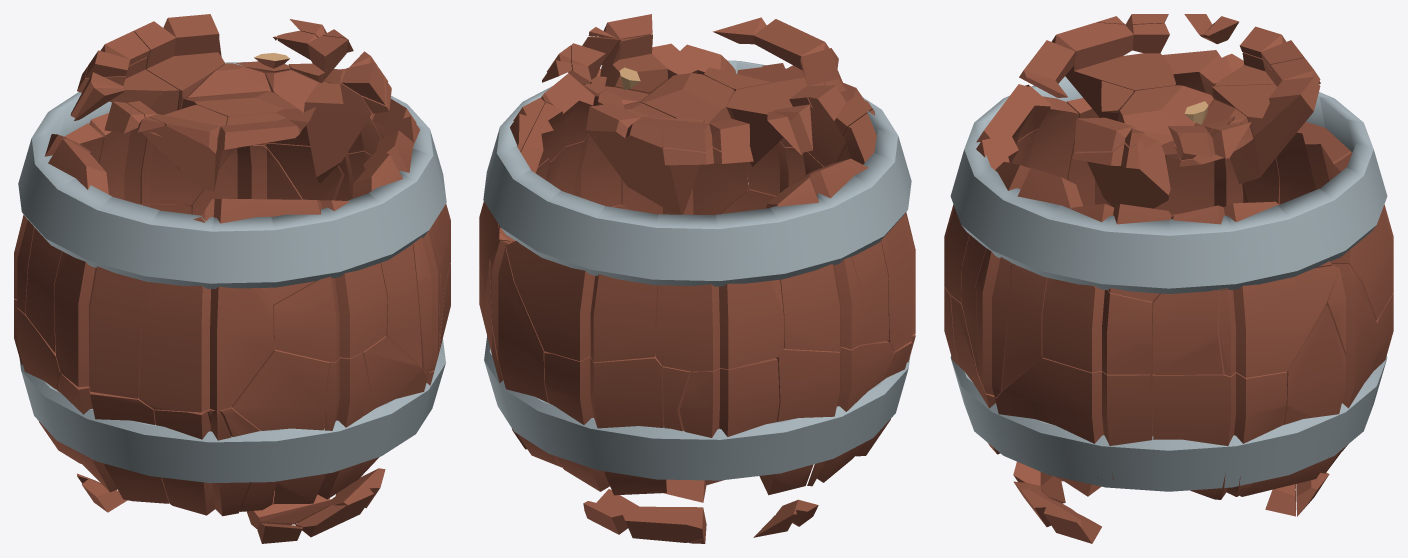
File: barrelFractured.fbx
3 renders of one model, left to right at view 1: azimuth 30°, elevation 25°; view 2: azimuth 150°, elevation 25°; view 3: azimuth 270°, elevation 25°, orthographic.
Parts seen in each view (by area): view 1: barrel.001, barrel.002, barrel_cell.038, barrel_cell.021, barrel_cell.037, barrel_cell.078, barrel_cell.005, barrel_cell.050, barrel_cell.034, barrel_cell.003, barrel_cell.064, barrel_cell.095 (+36 smaller); view 2: barrel.001, barrel.002, barrel_cell.088, barrel_cell, barrel_cell.005, barrel_cell.091, barrel_cell.024, barrel_cell.046, barrel_cell.019, barrel_cell.095, barrel_cell.089, barrel_cell.050 (+36 smaller); view 3: barrel.001, barrel.002, barrel_cell.049, barrel_cell.051, barrel_cell.082, barrel_cell.093, barrel_cell.050, barrel_cell.005, barrel_cell.054, barrel_cell.053, barrel_cell.095, barrel_cell.056 (+36 smaller).
Boxes of the visible parts, <box> form: barrel.001: <box>18,62,446,288</box>; barrel.002: <box>19,338,445,483</box>; barrel_cell.038: <box>139,217,274,412</box>; barrel_cell.021: <box>54,251,144,398</box>; barrel_cell.037: <box>274,263,387,362</box>; barrel_cell.078: <box>232,335,330,430</box>; barrel_cell.005: <box>133,14,225,169</box>; barrel_cell.050: <box>127,101,227,191</box>; barrel_cell.034: <box>57,373,169,503</box>; barrel_cell.003: <box>304,68,371,182</box>; barrel_cell.064: <box>154,409,249,516</box>; barrel_cell.095: <box>183,145,302,215</box>; barrel.001: <box>483,60,911,286</box>; barrel.002: <box>484,336,910,480</box>; barrel_cell.088: <box>656,279,783,371</box>; barrel_cell: <box>544,351,663,428</box>; barrel_cell.005: <box>586,103,705,214</box>; barrel_cell.091: <box>776,341,893,421</box>; barrel_cell.024: <box>505,241,595,361</box>; barrel_cell.046: <box>780,257,861,351</box>; barrel_cell.019: <box>679,358,779,437</box>; barrel_cell.095: <box>490,240,548,402</box>; barrel_cell.089: <box>590,274,658,362</box>; barrel_cell.050: <box>726,48,838,166</box>; barrel.001: <box>950,76,1387,293</box>; barrel.002: <box>950,356,1387,491</box>; barrel_cell.049: <box>995,357,1152,479</box>; barrel_cell.051: <box>1152,371,1287,499</box>; barrel_cell.082: <box>1042,278,1153,374</box>; barrel_cell.093: <box>1218,265,1339,377</box>; barrel_cell.050: <box>1051,22,1175,120</box>; barrel_cell.005: <box>1212,58,1320,184</box>; barrel_cell.054: <box>1152,290,1224,374</box>; barrel_cell.053: <box>1284,304,1345,424</box>; barrel_cell.095: <box>1325,263,1376,408</box>; barrel_cell.056: <box>976,248,1011,397</box>.
Bounding box in the file's own units: 94.33 × 100 × 96.84.
